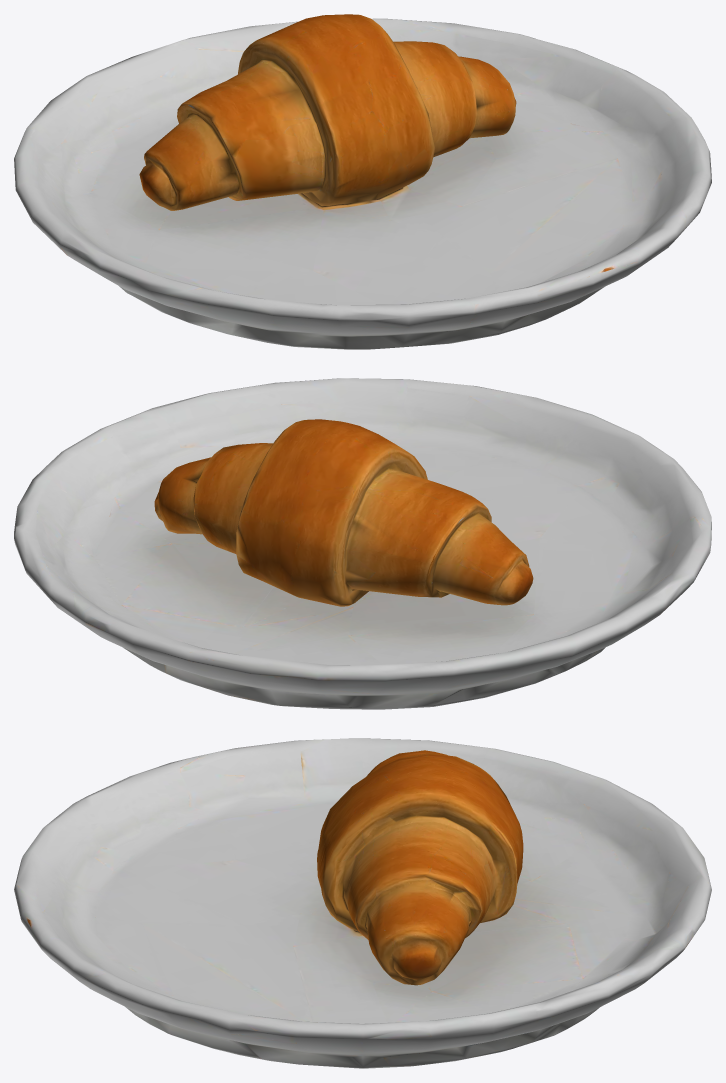
File: token-croissant.glb
3 views of the same model, one above another, from view 1: azimuth 30°, elevation 25°; view 2: azimuth 150°, elevation 25°; view 3: azimuth 270°, elevation 25° (orthographic).
Bounding box in the file's own units: 1.89 × 0.5717 × 1.9.
Materials: 1 (1 with a texture image).
